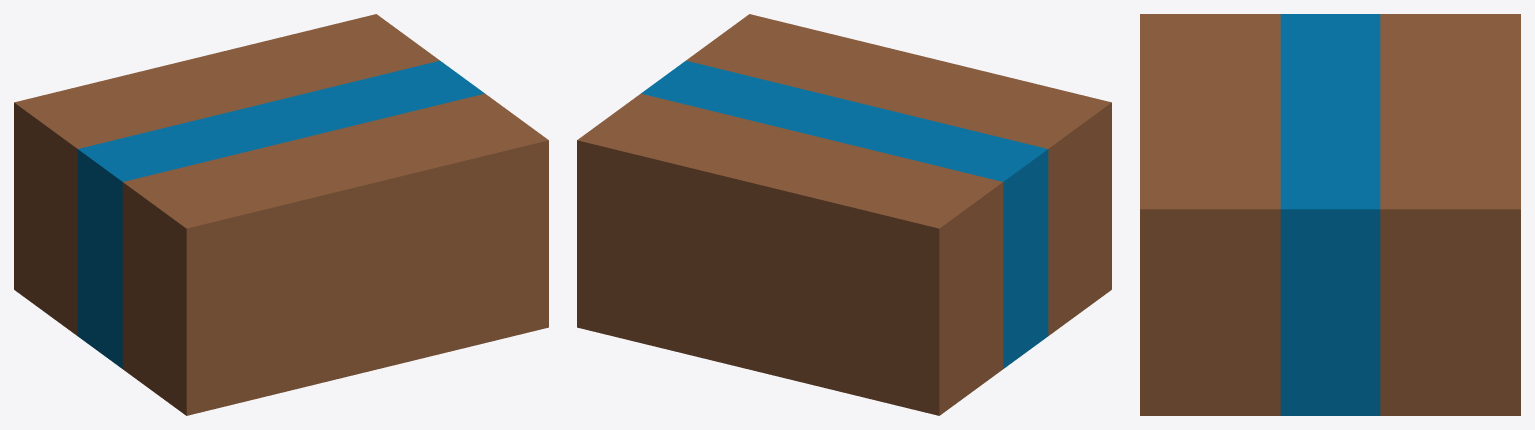
The model's file is package.glb.
The picture shows the model from 3 angles, left to right: view 1: azimuth 30°, elevation 25°; view 2: azimuth 150°, elevation 25°; view 3: azimuth 270°, elevation 25°; orthographic projection. The views are drawn at different scales.
Parts seen in each view (by area): view 1: package; view 2: package; view 3: package.
Boxes of the visible parts, <box> form: package: <box>14,14,548,415</box>; package: <box>577,14,1111,415</box>; package: <box>1140,14,1520,415</box>.
Bounding box in the file's own units: 1 × 0.4939 × 0.8243.
